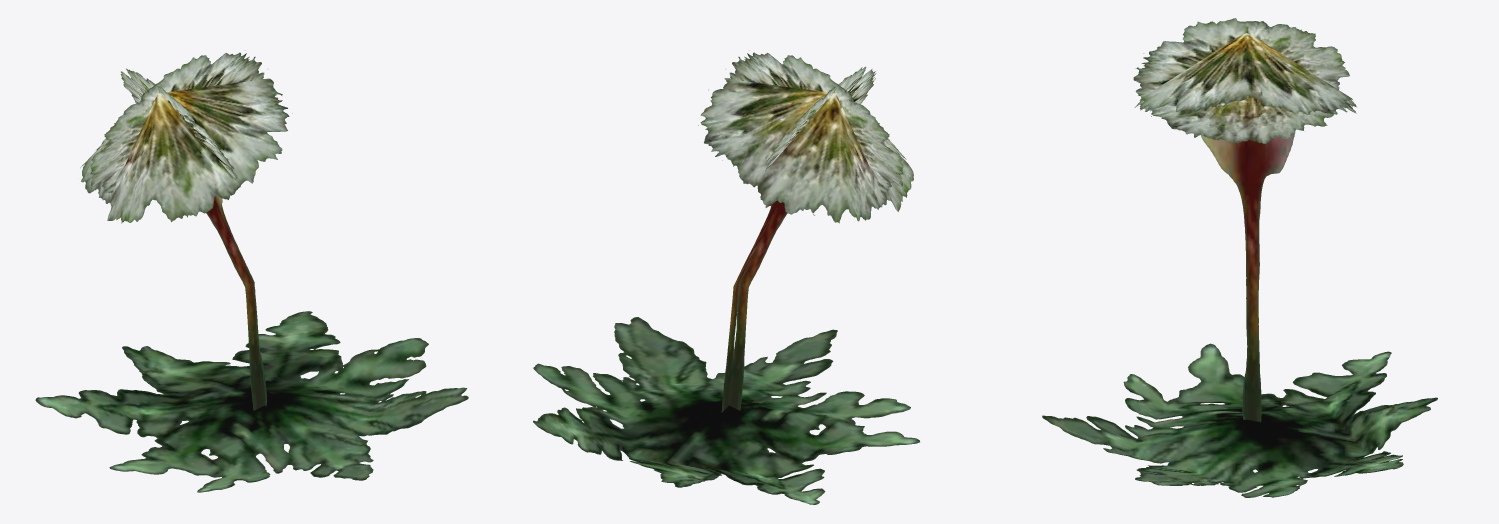
Rendered from flw_s01_w_ani.static.glb.
The picture shows the model from 3 angles, left to right: view 1: azimuth 30°, elevation 25°; view 2: azimuth 150°, elevation 25°; view 3: azimuth 270°, elevation 25°; orthographic projection.
Visible parts, largest first — view 1: flw_s01_w; view 2: flw_s01_w; view 3: flw_s01_w.
Boxes of the visible parts, bbox=[...] form: flw_s01_w: bbox=[35, 52, 468, 492]; flw_s01_w: bbox=[533, 52, 919, 504]; flw_s01_w: bbox=[1042, 18, 1437, 497].
Bounding box in the file's own units: 0.3142 × 0.3022 × 0.3125.
1 material, 1 textured.
